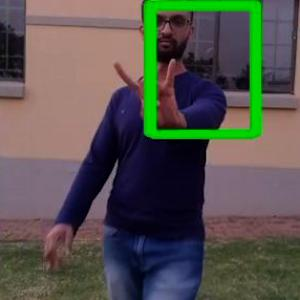takeoff-hand: (112, 50, 186, 136)
